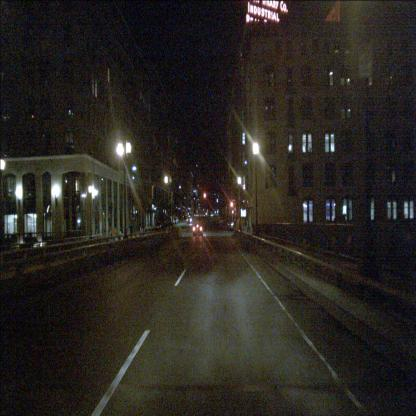human-pedestrian-adult: (239, 219, 243, 234), (243, 219, 247, 233)
vehicle-car: (193, 223, 203, 238), (187, 216, 193, 224)
